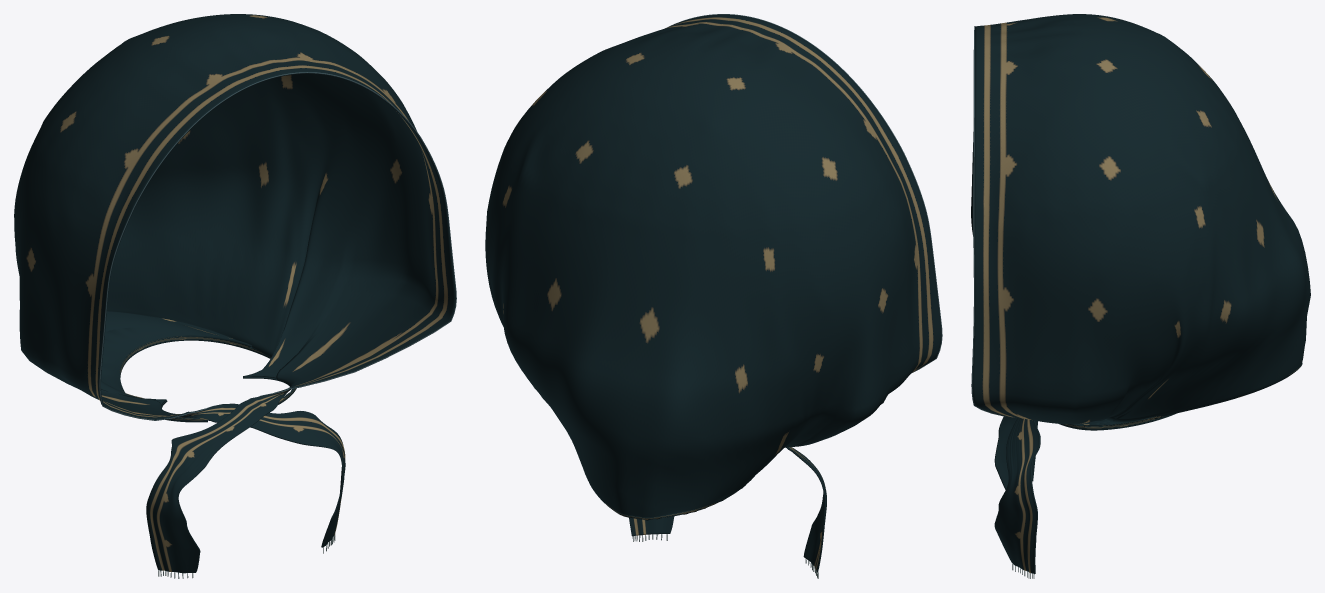
The model's file is Feminine-ponytail-bandeau-pashmina249-headgear.glb.
3 renders of one model, left to right at view 1: azimuth 30°, elevation 25°; view 2: azimuth 150°, elevation 25°; view 3: azimuth 270°, elevation 25°, orthographic. The views are drawn at different scales.
Visible parts, largest first — view 1: 226 headgear / Headwear / continuous woven pashmina239, 226 headgear / Headwear / face edge239; view 2: 226 headgear / Headwear / continuous woven pashmina239, 226 headgear / Headwear / face edge239; view 3: 226 headgear / Headwear / continuous woven pashmina239, 226 headgear / Headwear / face edge239.
Boxes of the visible parts, left/top/right/bottom form: 226 headgear / Headwear / continuous woven pashmina239: left=14, top=14, right=455, bottom=573; 226 headgear / Headwear / face edge239: left=99, top=72, right=456, bottom=420; 226 headgear / Headwear / continuous woven pashmina239: left=485, top=14, right=941, bottom=572; 226 headgear / Headwear / face edge239: left=665, top=14, right=942, bottom=372; 226 headgear / Headwear / continuous woven pashmina239: left=971, top=14, right=1310, bottom=574; 226 headgear / Headwear / face edge239: left=971, top=26, right=1011, bottom=417.
Bounding box in the file's own units: 1.02 × 1.37 × 0.8332.
Materials: 3 (1 with a texture image).
